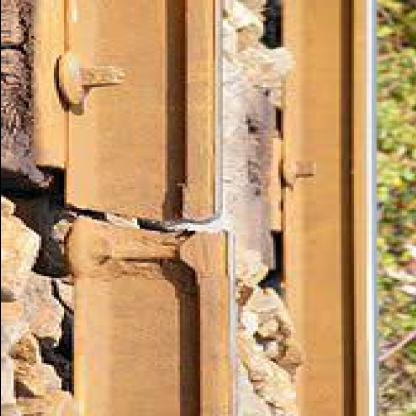Defective: (30, 52, 260, 406)
